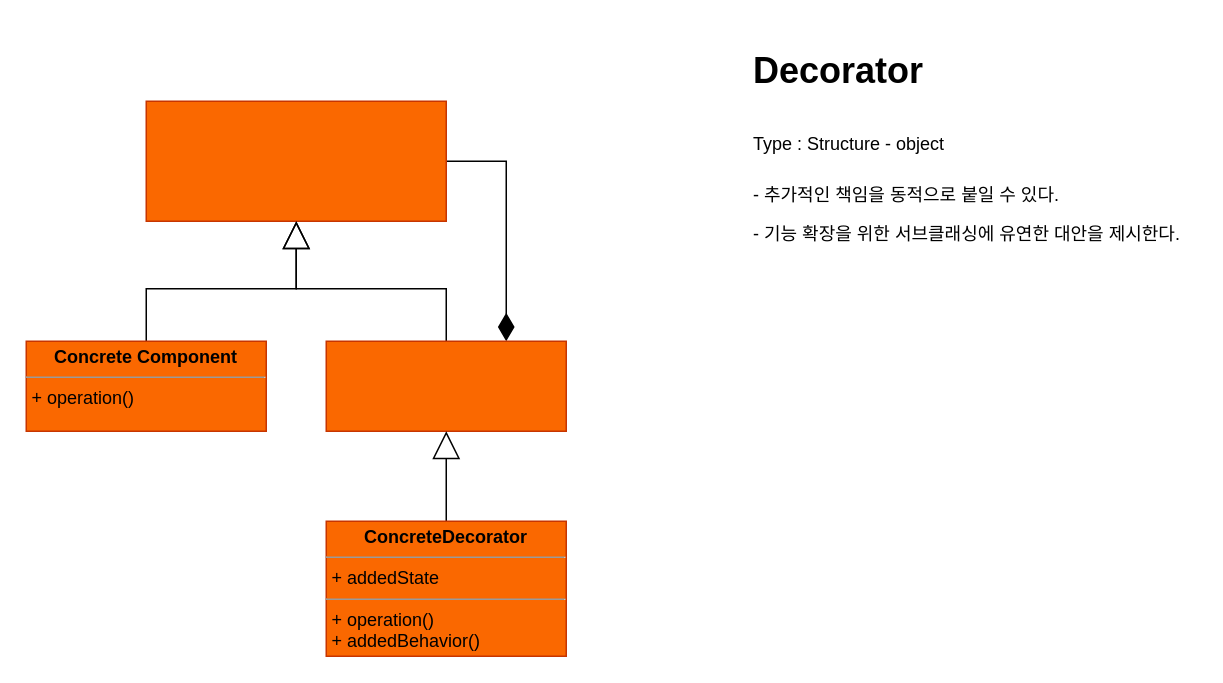
The diagram is 1223 pixels wide and 683 high, and some of its shapes have lost their labels. The shapes that lost their labels are listed below. From the top down, each one's box as (x1, y1, x2, y2) in pixels, then its label:
(145, 100, 446, 221): <<Interface>> Component + operation()
(325, 340, 566, 431): Decorator + operation()
